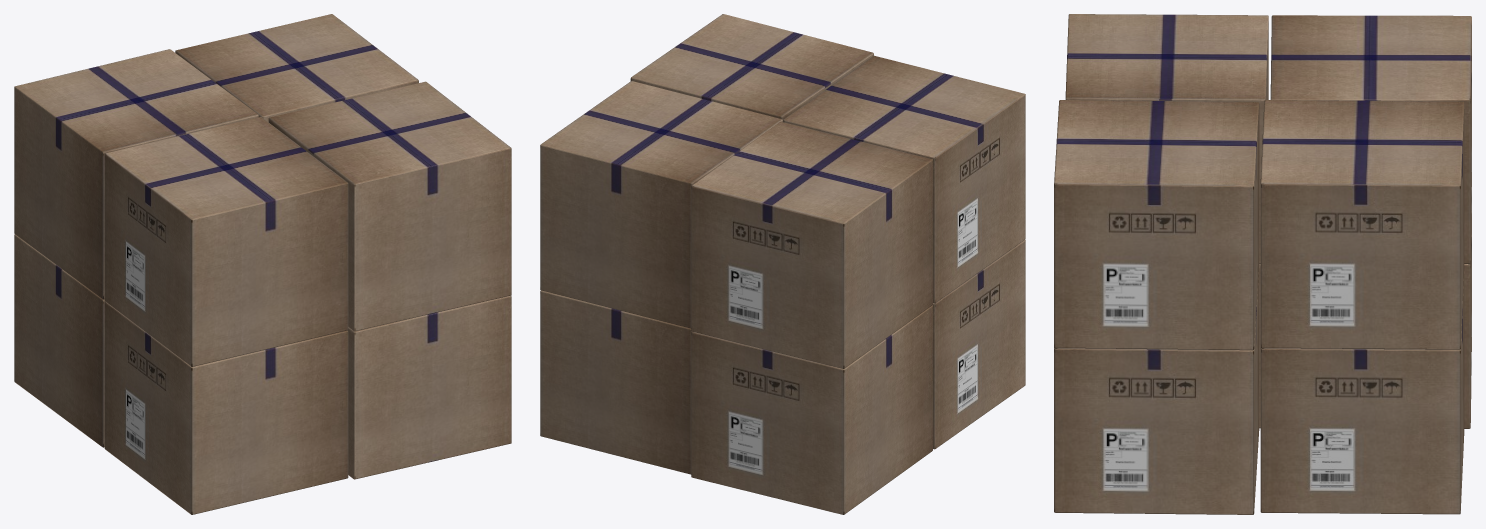
File: carton.glb
3 views of the same model, side by side, from view 1: azimuth 30°, elevation 25°; view 2: azimuth 150°, elevation 25°; view 3: azimuth 270°, elevation 25° (orthographic). The views are drawn at different scales.
Visible parts, largest first — view 1: large box; view 2: large box; view 3: large box.
Boxes of the visible parts, left/top/right/bottom form: large box: left=14, top=14, right=511, bottom=514; large box: left=540, top=14, right=1025, bottom=514; large box: left=1054, top=14, right=1471, bottom=514.
Bounding box in the file's own units: 0.9725 × 0.8654 × 0.995.
Materials: 1 (1 with a texture image).
